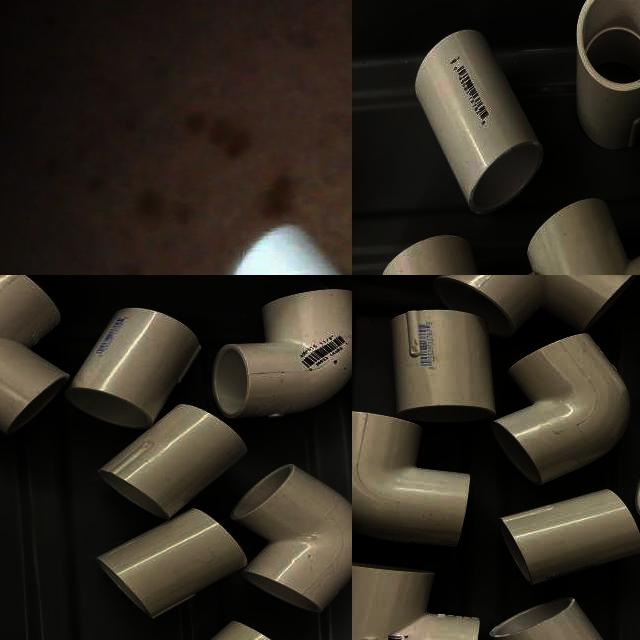L Joint: (490, 334, 625, 486), (352, 412, 470, 550), (433, 275, 636, 340)
T Joint: (352, 563, 482, 640)
